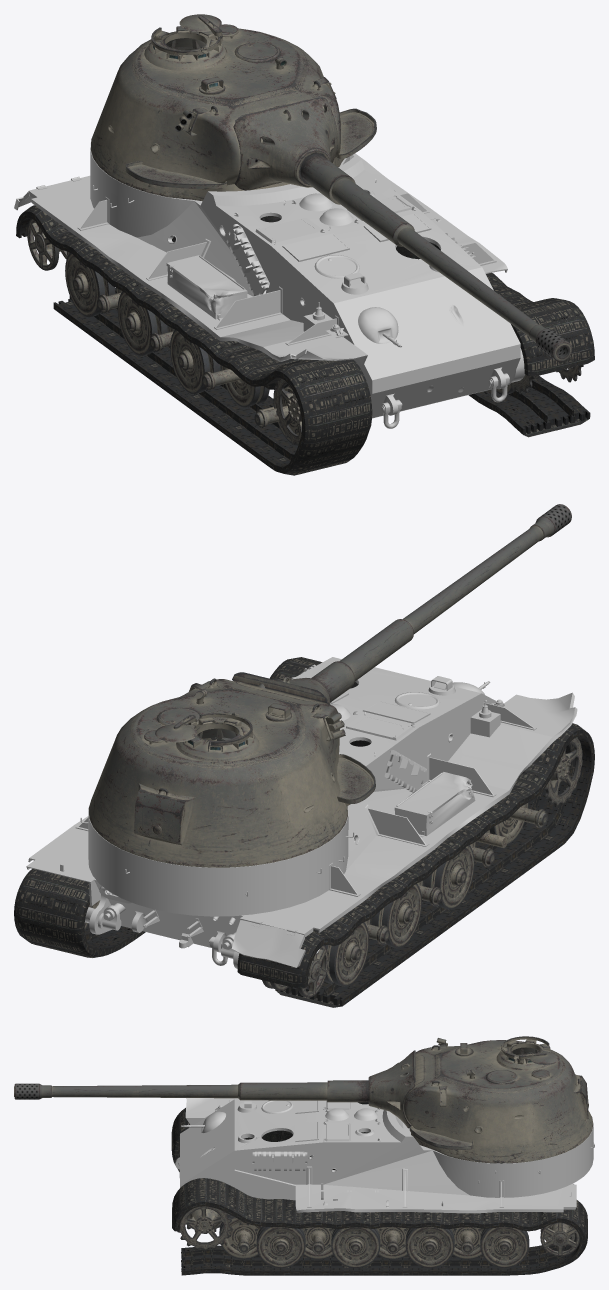
Rendered from Pz.Kpfw. VII_CRASHED.fbx.
3 views of the same model, one above another, from view 1: azimuth 30°, elevation 25°; view 2: azimuth 150°, elevation 25°; view 3: azimuth 270°, elevation 25° (orthographic). The views are drawn at different scales.
Parts seen in each view (by area): view 1: german\G134_PzKpfw_VII\crash\l\Hull.pri~10~4, german\G134_PzKpfw_VII\crash\l\Turret_01.pri~10~6, german\G134_PzKpfw_VII\crash\l\Chassis.pri~10~2, german\G134_PzKpfw_VII\crash\l\Gun_02.pri~10~7, german\G134_PzKpfw_VII\crash\l\Hull.pri~10~5, german\G134_PzKpfw_VII\crash\l\Chassis.pri~10~1; view 2: german\G134_PzKpfw_VII\crash\l\Hull.pri~10~4, german\G134_PzKpfw_VII\crash\l\Turret_01.pri~10~6, german\G134_PzKpfw_VII\crash\l\Chassis.pri~10~2, german\G134_PzKpfw_VII\crash\l\Hull.pri~10~5, german\G134_PzKpfw_VII\crash\l\Gun_02.pri~10~7, german\G134_PzKpfw_VII\crash\l\Chassis.pri~10~1; view 3: german\G134_PzKpfw_VII\crash\l\Hull.pri~10~4, german\G134_PzKpfw_VII\crash\l\Turret_01.pri~10~6, german\G134_PzKpfw_VII\crash\l\Chassis.pri~10~1, german\G134_PzKpfw_VII\crash\l\Hull.pri~10~5, german\G134_PzKpfw_VII\crash\l\Gun_02.pri~10~7, german\G134_PzKpfw_VII\crash\l\Chassis.pri~10~2, german\G134_PzKpfw_VII\crash\l\Hull.pri~10~3.
Boxes of the visible parts, x1,y1,x2,y2 form: german\G134_PzKpfw_VII\crash\l\Hull.pri~10~4: (14,141,524,428); german\G134_PzKpfw_VII\crash\l\Turret_01.pri~10~6: (90,14,376,201); german\G134_PzKpfw_VII\crash\l\Chassis.pri~10~2: (16,205,372,475); german\G134_PzKpfw_VII\crash\l\Gun_02.pri~10~7: (233,97,572,361); german\G134_PzKpfw_VII\crash\l\Hull.pri~10~5: (27,218,583,445); german\G134_PzKpfw_VII\crash\l\Chassis.pri~10~1: (468,272,594,437); german\G134_PzKpfw_VII\crash\l\Hull.pri~10~4: (26,657,577,968); german\G134_PzKpfw_VII\crash\l\Turret_01.pri~10~6: (88,678,375,867); german\G134_PzKpfw_VII\crash\l\Chassis.pri~10~2: (237,723,594,1007); german\G134_PzKpfw_VII\crash\l\Hull.pri~10~5: (84,737,582,997); german\G134_PzKpfw_VII\crash\l\Gun_02.pri~10~7: (211,504,571,740); german\G134_PzKpfw_VII\crash\l\Chassis.pri~10~1: (14,657,322,957); german\G134_PzKpfw_VII\crash\l\Hull.pri~10~4: (175,1098,594,1227); german\G134_PzKpfw_VII\crash\l\Turret_01.pri~10~6: (403,1036,593,1163); german\G134_PzKpfw_VII\crash\l\Chassis.pri~10~1: (172,1178,587,1275); german\G134_PzKpfw_VII\crash\l\Hull.pri~10~5: (177,1149,579,1267); german\G134_PzKpfw_VII\crash\l\Gun_02.pri~10~7: (14,1050,467,1128); german\G134_PzKpfw_VII\crash\l\Chassis.pri~10~2: (171,1108,189,1171); german\G134_PzKpfw_VII\crash\l\Hull.pri~10~3: (244,1102,368,1169).
Bounding box in the file's own units: 3.93 × 3.26 × 9.54.
